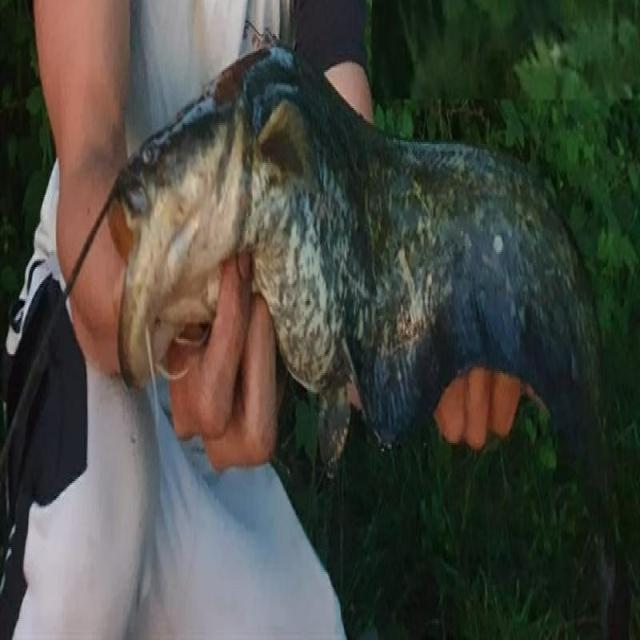Catfish: (76, 57, 626, 570)
